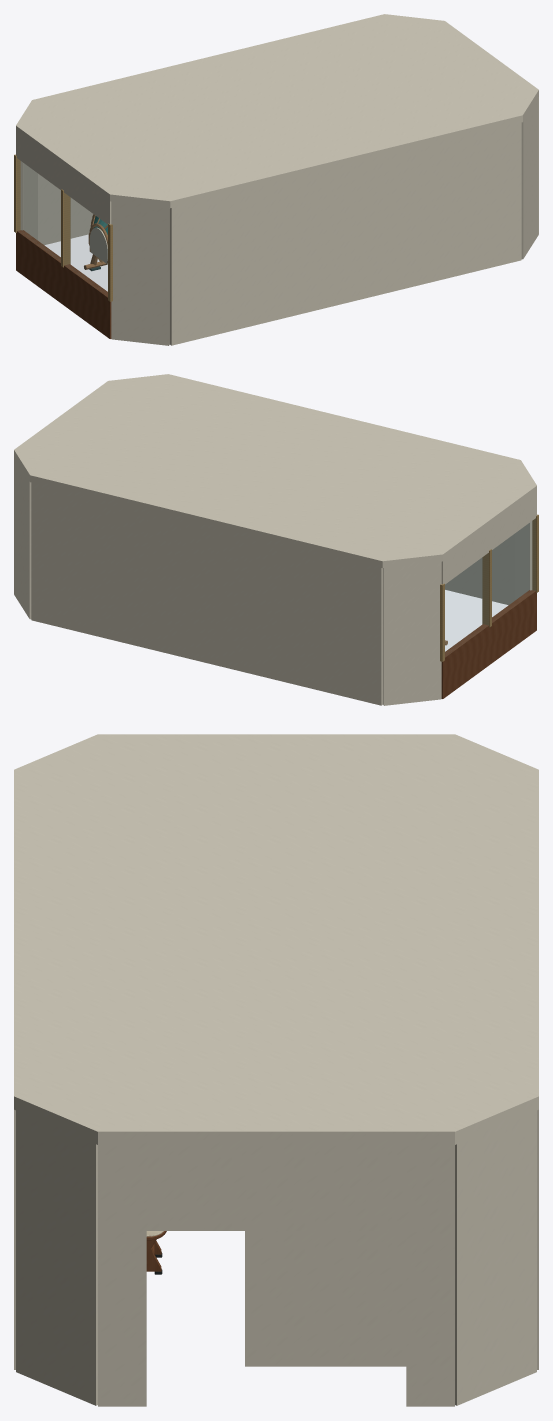
Rendered from D04_PORT_FORWARD_HOME_934_r001.glb.
The picture shows the model from 3 angles, top to bottom: view 1: azimuth 30°, elevation 25°; view 2: azimuth 150°, elevation 25°; view 3: azimuth 270°, elevation 25°; orthographic projection. The views are drawn at different scales.
Visible parts, largest first — view 1: D04H934_Roof, D04H934_Shell_3, D04H934_Shell_2, D04H934_GardenGlass, D04H934_GardenDado, D04H934_Shell_4, D04H934_GardenHead, D04H934_Shell_7, D04H934_Shell_0, D04H934_WindowMullion_1, D04H934_WindowMullion_0, D04H934_ReservedCocoon__Rear ivory acoustic diffuser; view 2: D04H934_Roof, D04H934_Shell_7, D04H934_Shell_0, D04H934_GardenGlass, D04H934_GardenDado, D04H934_Shell_6, D04H934_GardenHead, D04H934_Shell_3, D04H934_Shell_2, D04H934_WindowMullion_1, D04H934_WindowMullion_2; view 3: D04H934_Roof, D04H934_EntryHeader, D04H934_Shell_4, D04H934_Shell_6, D04H934_BathDogleg, D04H934_EntryWall_0, D04H934_EntryWall_1, D04H934_BathScreen.
Boxes of the visible parts, x1,y1,x2,y2 form: D04H934_Roof: [16, 14, 538, 208]; D04H934_Shell_3: [169, 122, 521, 345]; D04H934_Shell_2: [111, 201, 169, 345]; D04H934_GardenGlass: [18, 163, 107, 293]; D04H934_GardenDado: [16, 230, 111, 338]; D04H934_Shell_4: [521, 98, 538, 259]; D04H934_GardenHead: [16, 133, 111, 224]; D04H934_Shell_7: [38, 173, 93, 245]; D04H934_Shell_0: [20, 161, 37, 240]; D04H934_WindowMullion_1: [61, 189, 70, 267]; D04H934_WindowMullion_0: [14, 154, 20, 232]; D04H934_ReservedCocoon__Rear ivory acoustic diffuser: [89, 227, 107, 264]; D04H934_Roof: [14, 374, 536, 568]; D04H934_Shell_7: [31, 482, 383, 705]; D04H934_Shell_0: [383, 561, 441, 705]; D04H934_GardenGlass: [445, 523, 532, 654]; D04H934_GardenDado: [441, 590, 536, 698]; D04H934_Shell_6: [14, 458, 31, 619]; D04H934_GardenHead: [441, 493, 536, 584]; D04H934_Shell_3: [445, 533, 514, 605]; D04H934_Shell_2: [515, 521, 532, 600]; D04H934_WindowMullion_1: [482, 549, 491, 627]; D04H934_WindowMullion_2: [532, 514, 538, 592]; D04H934_Roof: [14, 734, 538, 1144]; D04H934_EntryHeader: [146, 1145, 406, 1230]; D04H934_Shell_4: [16, 1110, 97, 1405]; D04H934_Shell_6: [455, 1110, 536, 1405]; D04H934_BathDogleg: [245, 1231, 406, 1366]; D04H934_EntryWall_0: [406, 1145, 454, 1406]; D04H934_EntryWall_1: [98, 1145, 146, 1406]; D04H934_BathScreen: [245, 1231, 258, 1366].
Bounding box in the file's own units: 12.92 × 4.16 × 7.2.
35 materials, 20 textured.
